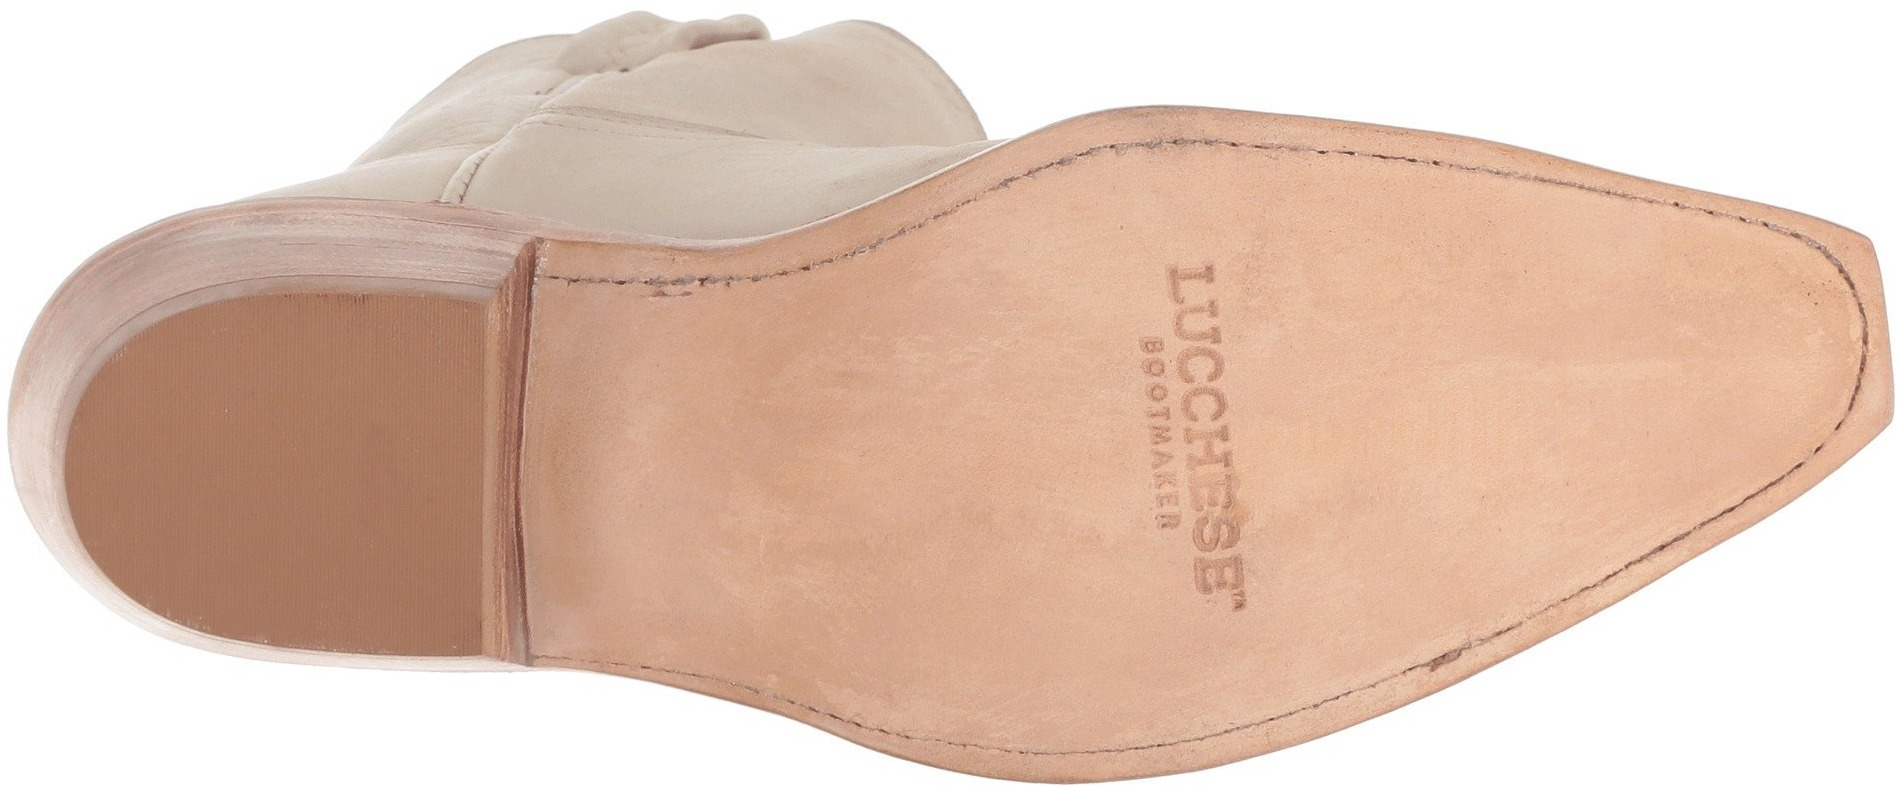exclude: (527, 45, 844, 782)
other: (1273, 200, 1556, 460), (142, 365, 402, 588), (903, 460, 1123, 701), (1576, 252, 1792, 452), (857, 254, 1040, 428), (1330, 472, 1501, 631), (1507, 464, 1618, 570)
text: (1046, 256, 1259, 449), (1130, 460, 1313, 638)
